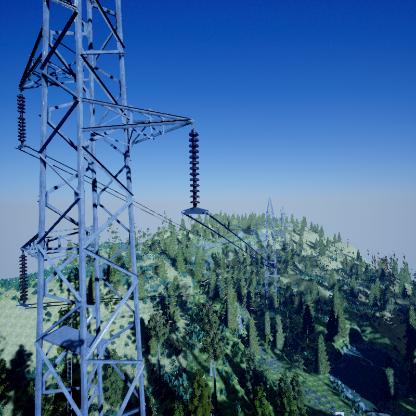insulator: (186, 130, 201, 208), (16, 94, 27, 148), (19, 253, 28, 307)
